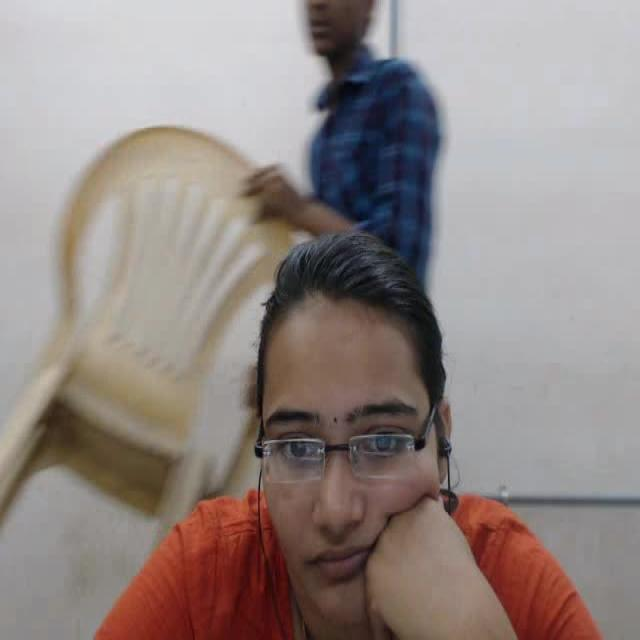Bored: (213, 206, 492, 640)
